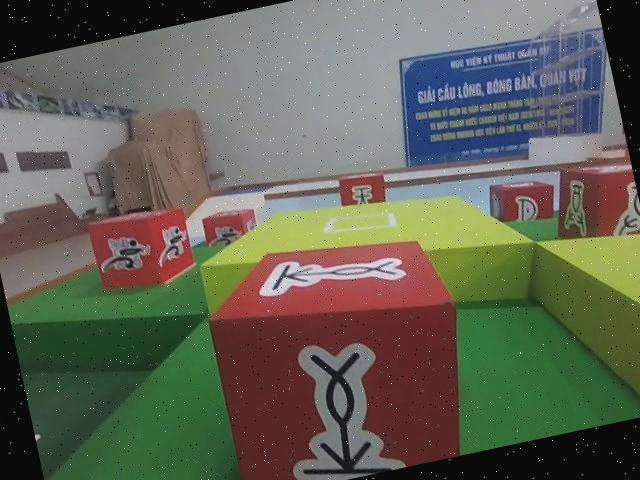R1: (79, 197, 201, 303), (195, 200, 263, 256)
R2 Real: (193, 213, 490, 480), (540, 151, 640, 254), (480, 167, 565, 240)
